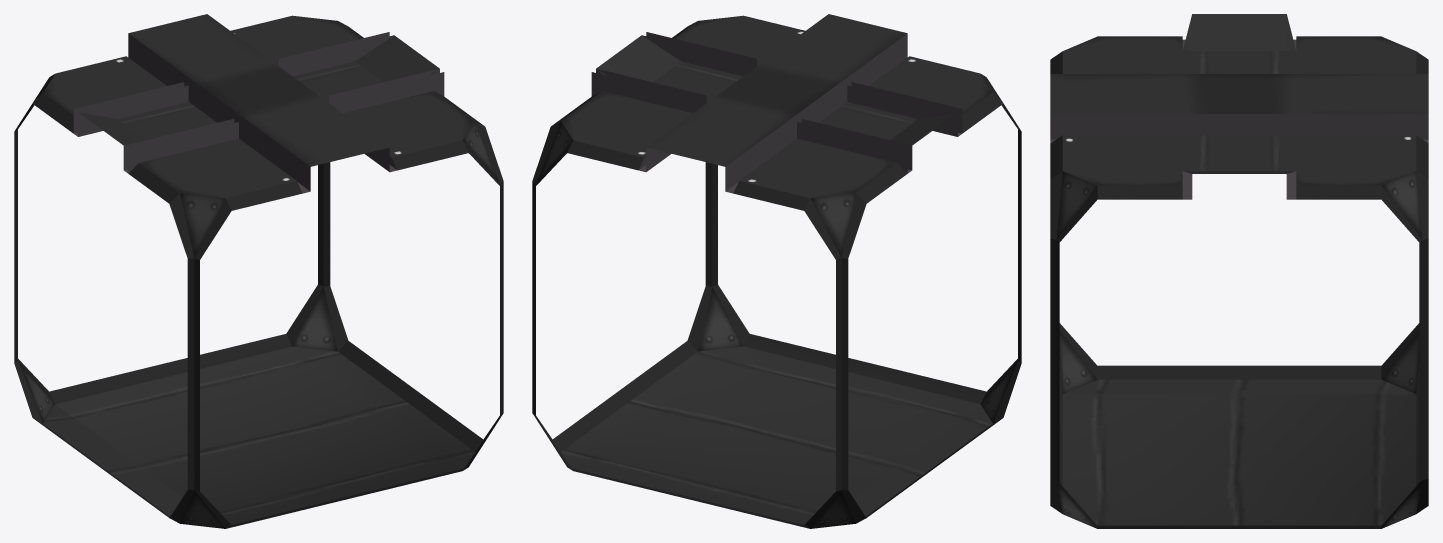
The model's file is pathway04.fbx.
The picture shows the model from 3 angles, left to right: view 1: azimuth 30°, elevation 25°; view 2: azimuth 150°, elevation 25°; view 3: azimuth 270°, elevation 25°; orthographic projection. The views are drawn at different scales.
Parts seen in each view (by area): view 1: pathway04; view 2: pathway04; view 3: pathway04.
Part boxes in pixels (bbox=[...]): pathway04: bbox=[14, 14, 503, 528]; pathway04: bbox=[532, 14, 1021, 528]; pathway04: bbox=[1050, 14, 1428, 528].
Size of the model in its own units: 2 by 2.1 by 2.
Materials: 1 (1 with a texture image).
